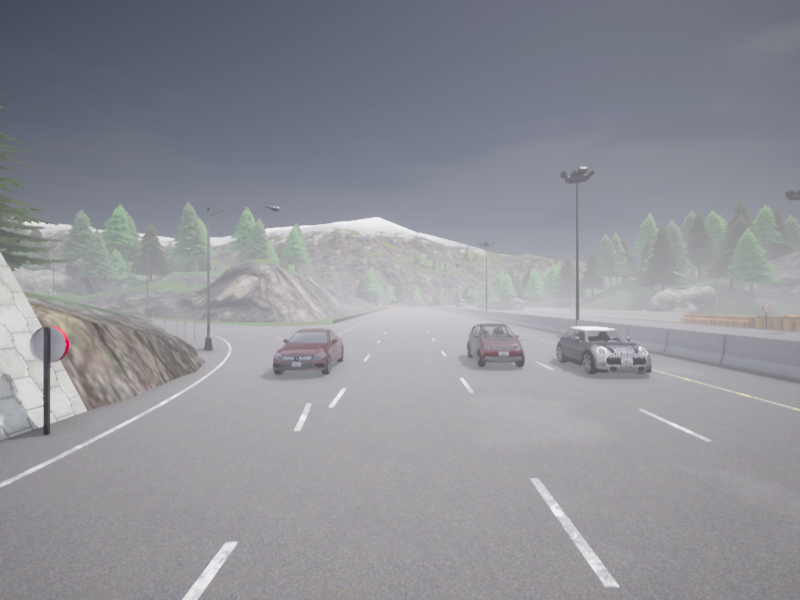vehicle: (556, 327, 651, 373), (273, 328, 343, 374), (467, 324, 524, 366), (456, 300, 466, 306), (458, 304, 461, 306)
